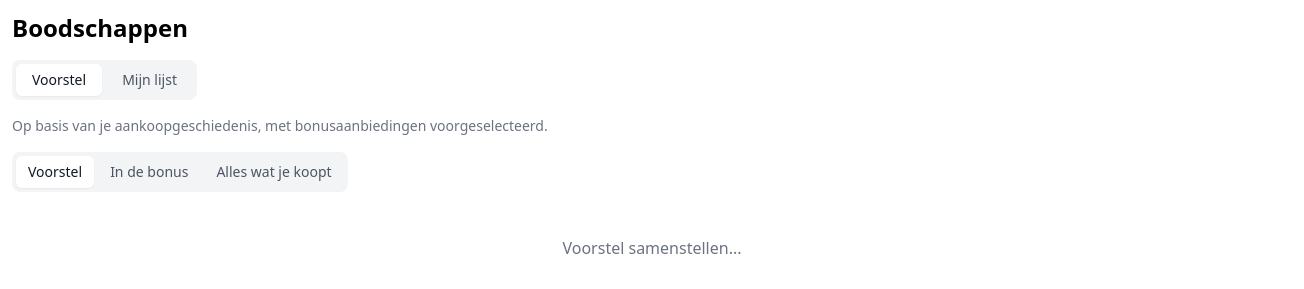
Test: pages/shopping-list.vue › empty state › renders the empty state and no category groups when there are no items
Click the button with class "tab" showing "Mijn lijst" at coordinates (150, 80), box x1=106 y1=64 x2=193 y2=96
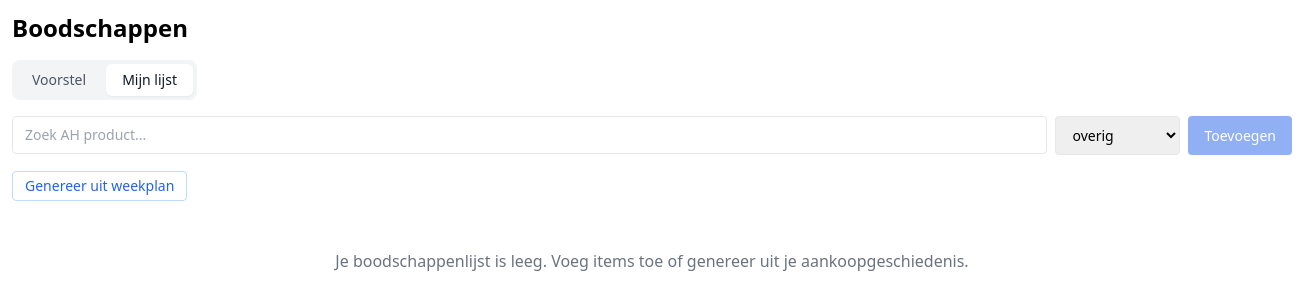
Check: the text with class "empty-state" shows "Je boodschappenlijst is leeg", box x1=335 y1=250 x2=969 y2=272
